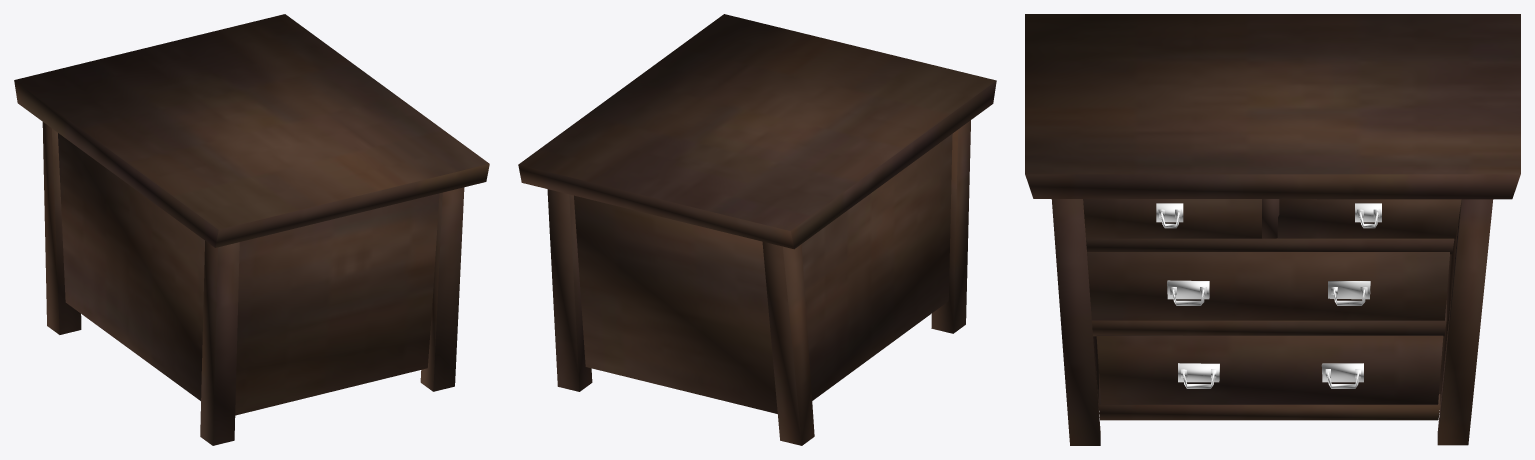
Rendered from dresser.lod2.glb.
The picture shows the model from 3 angles, left to right: view 1: azimuth 30°, elevation 25°; view 2: azimuth 150°, elevation 25°; view 3: azimuth 270°, elevation 25°; orthographic projection. The views are drawn at different scales.
Parts seen in each view (by area): view 1: Dresser.001; view 2: Dresser.001; view 3: Dresser.001.
Boxes of the visible parts, x1,y1,x2,y2 form: Dresser.001: [14, 14, 489, 445]; Dresser.001: [518, 14, 996, 445]; Dresser.001: [1025, 14, 1520, 445].
Size of the model in its own units: 0.6446 by 0.5279 by 0.8432.
Materials: 2 (1 with a texture image).
